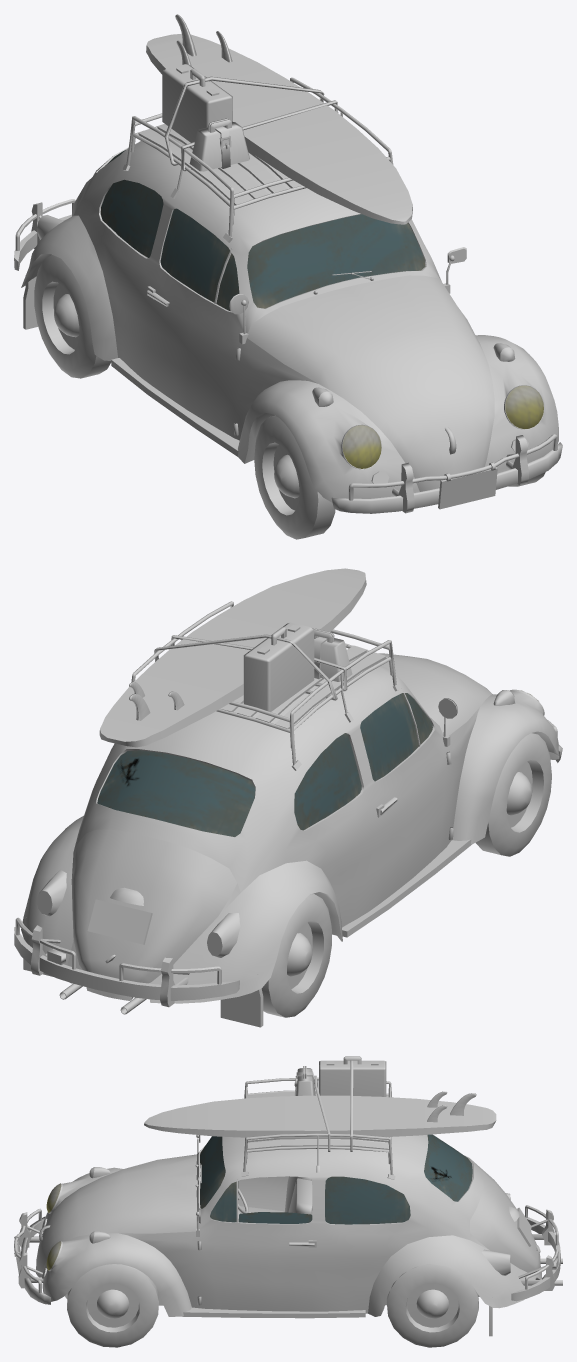
The picture shows the model from 3 angles, top to bottom: view 1: azimuth 30°, elevation 25°; view 2: azimuth 150°, elevation 25°; view 3: azimuth 270°, elevation 25°; orthographic projection. The views are drawn at different scales.
Visible parts, largest first — view 1: base_lp, glass_lp, surf_lp, wheel_lp3, wheel_lp4, det_16_lp, bag_01_lp, det_07_lp, det_06_lp, bag_02_lp, det_12_lp, det_03_lp (+3 smaller); view 2: base_lp, glass_lp, surf_lp, wheel_lp3, wheel_lp4, det_17_lp, bag_01_lp, det_07_lp, det_13_lp, det_06_lp, det_02_lp, det_12_lp (+3 smaller); view 3: base_lp, surf_lp, glass_lp, wheel_lp1, wheel_lp2, bag_01_lp, det_17_lp, det_07_lp, det_16_lp, det_06_lp, det_12_lp, seat_01_lp (+4 smaller).
Boxes of the visible parts, bbox=[...] form: base_lp: bbox=[21, 131, 558, 502]; glass_lp: bbox=[100, 150, 543, 468]; surf_lp: bbox=[146, 14, 412, 224]; wheel_lp3: bbox=[254, 415, 335, 539]; wheel_lp4: bbox=[34, 255, 111, 378]; det_16_lp: bbox=[331, 434, 562, 513]; bag_01_lp: bbox=[162, 64, 232, 142]; det_07_lp: bbox=[122, 77, 393, 242]; det_06_lp: bbox=[138, 123, 302, 205]; bag_02_lp: bbox=[189, 118, 249, 171]; det_12_lp: bbox=[111, 358, 239, 456]; det_03_lp: bbox=[438, 467, 497, 509]; base_lp: bbox=[21, 653, 558, 1003]; glass_lp: bbox=[97, 690, 538, 836]; surf_lp: bbox=[99, 568, 366, 747]; wheel_lp3: bbox=[476, 733, 551, 856]; wheel_lp4: bbox=[261, 893, 331, 1017]; det_17_lp: bbox=[14, 917, 239, 1007]; bag_01_lp: bbox=[243, 622, 314, 711]; det_07_lp: bbox=[131, 601, 401, 770]; det_13_lp: bbox=[37, 869, 240, 957]; det_06_lp: bbox=[220, 643, 386, 728]; det_02_lp: bbox=[87, 899, 152, 944]; det_12_lp: bbox=[342, 839, 471, 937]; base_lp: bbox=[36, 1134, 541, 1316]; surf_lp: bbox=[144, 1091, 496, 1138]; glass_lp: bbox=[46, 1134, 472, 1270]; wheel_lp1: bbox=[67, 1264, 158, 1347]; wheel_lp2: bbox=[386, 1264, 478, 1347]; bag_01_lp: bbox=[319, 1056, 386, 1096]; det_17_lp: bbox=[511, 1205, 560, 1301]; det_07_lp: bbox=[241, 1077, 395, 1179]; det_16_lp: bbox=[14, 1208, 50, 1304]; det_06_lp: bbox=[247, 1092, 388, 1149]; det_12_lp: bbox=[182, 1307, 365, 1318]; seat_01_lp: bbox=[238, 1176, 312, 1221].
Size of the model in its own units: 150 by 185 by 392.
